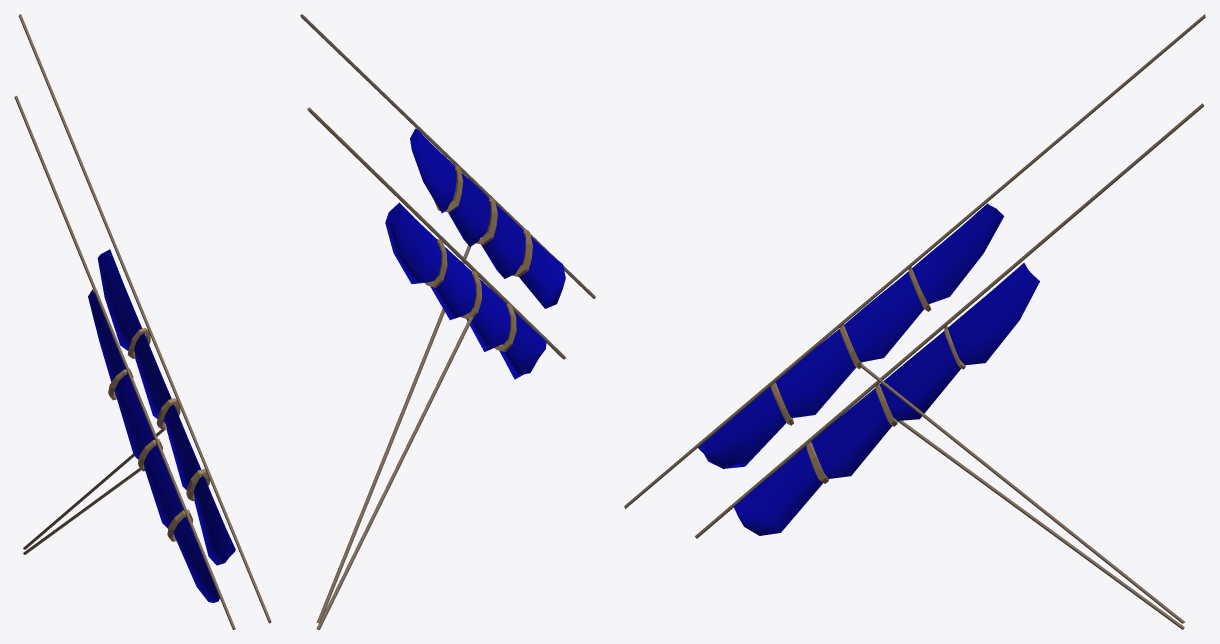
The model's file is SM_Veh_Ship_S_Rigging_Front_01_Tied_01.fbx.
3 renders of one model, left to right at view 1: azimuth 30°, elevation 25°; view 2: azimuth 150°, elevation 25°; view 3: azimuth 270°, elevation 25°, orthographic. The views are drawn at different scales.
Visible parts, largest first — view 1: SM_Veh_Ship_S_Rigging_Front_01_Tied_01; view 2: SM_Veh_Ship_S_Rigging_Front_01_Tied_01; view 3: SM_Veh_Ship_S_Rigging_Front_01_Tied_01.
Part boxes in pixels (x1,y1,x2,y2): SM_Veh_Ship_S_Rigging_Front_01_Tied_01: (14, 14, 271, 629); SM_Veh_Ship_S_Rigging_Front_01_Tied_01: (300, 14, 595, 629); SM_Veh_Ship_S_Rigging_Front_01_Tied_01: (624, 14, 1205, 629).
Size of the model in its own units: 79.18 by 1644 by 1401.
